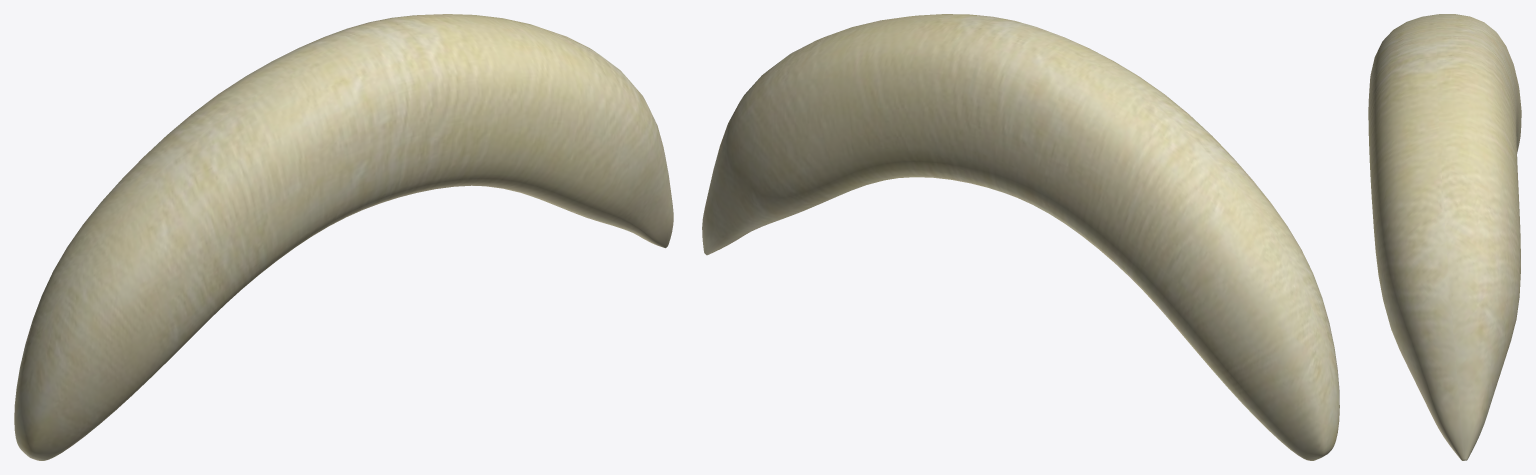
Rendered from YellowBananaFlesh.obj.
3 views of the same model, side by side, from view 1: azimuth 30°, elevation 25°; view 2: azimuth 150°, elevation 25°; view 3: azimuth 270°, elevation 25° (orthographic). The views are drawn at different scales.
Parts seen in each view (by area): view 1: YellowBananaFlesh; view 2: YellowBananaFlesh; view 3: YellowBananaFlesh.
Boxes of the visible parts, box(x1,y1,x2,y2) form: YellowBananaFlesh: box(14, 14, 673, 460); YellowBananaFlesh: box(702, 14, 1339, 460); YellowBananaFlesh: box(1368, 14, 1521, 460).
Bounding box in the file's own units: 0.1763 × 0.0919 × 0.0381.
Materials: 1 (1 with a texture image).
